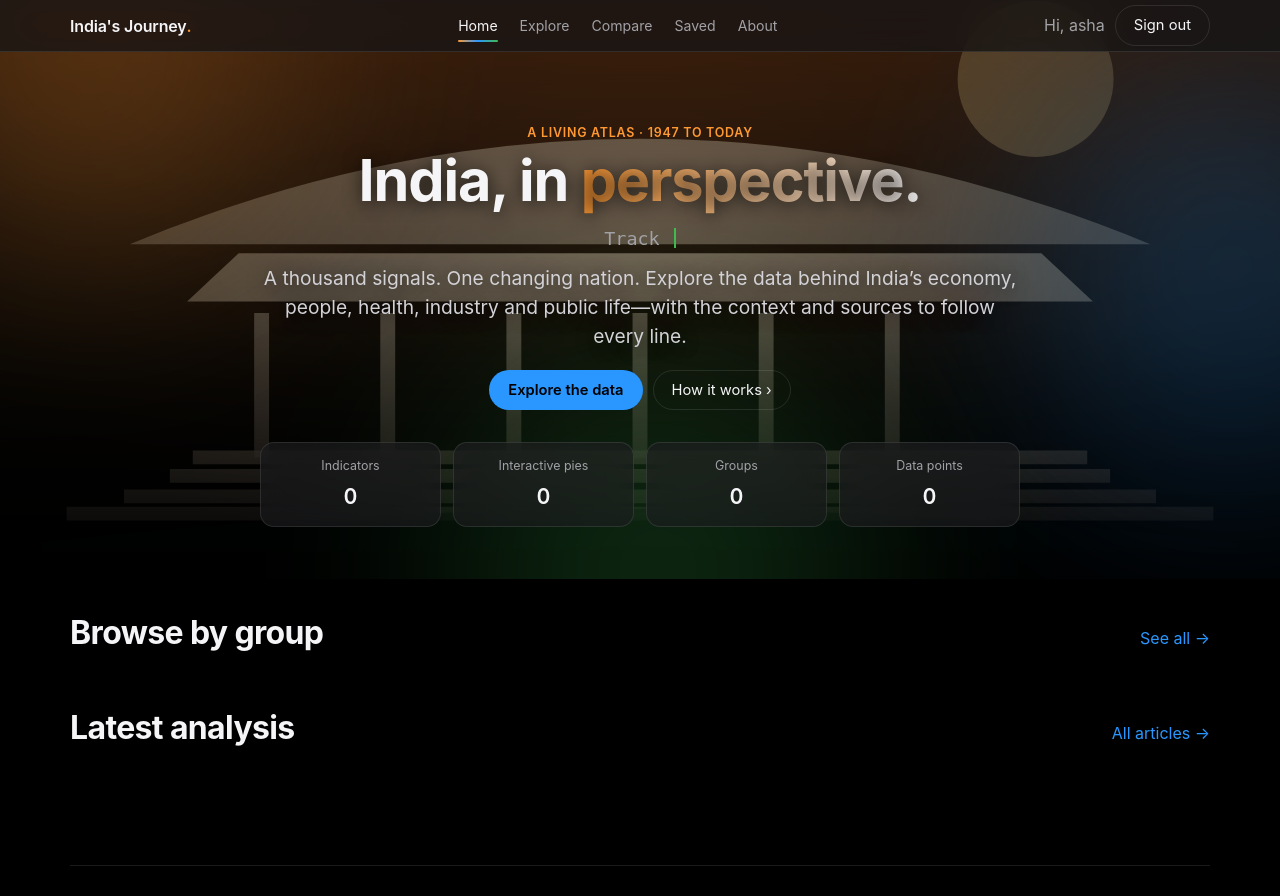
Test case: Accounts › signs out from the header
Click the button "Sign out" at (1162,26), box [1115,6,1210,46]
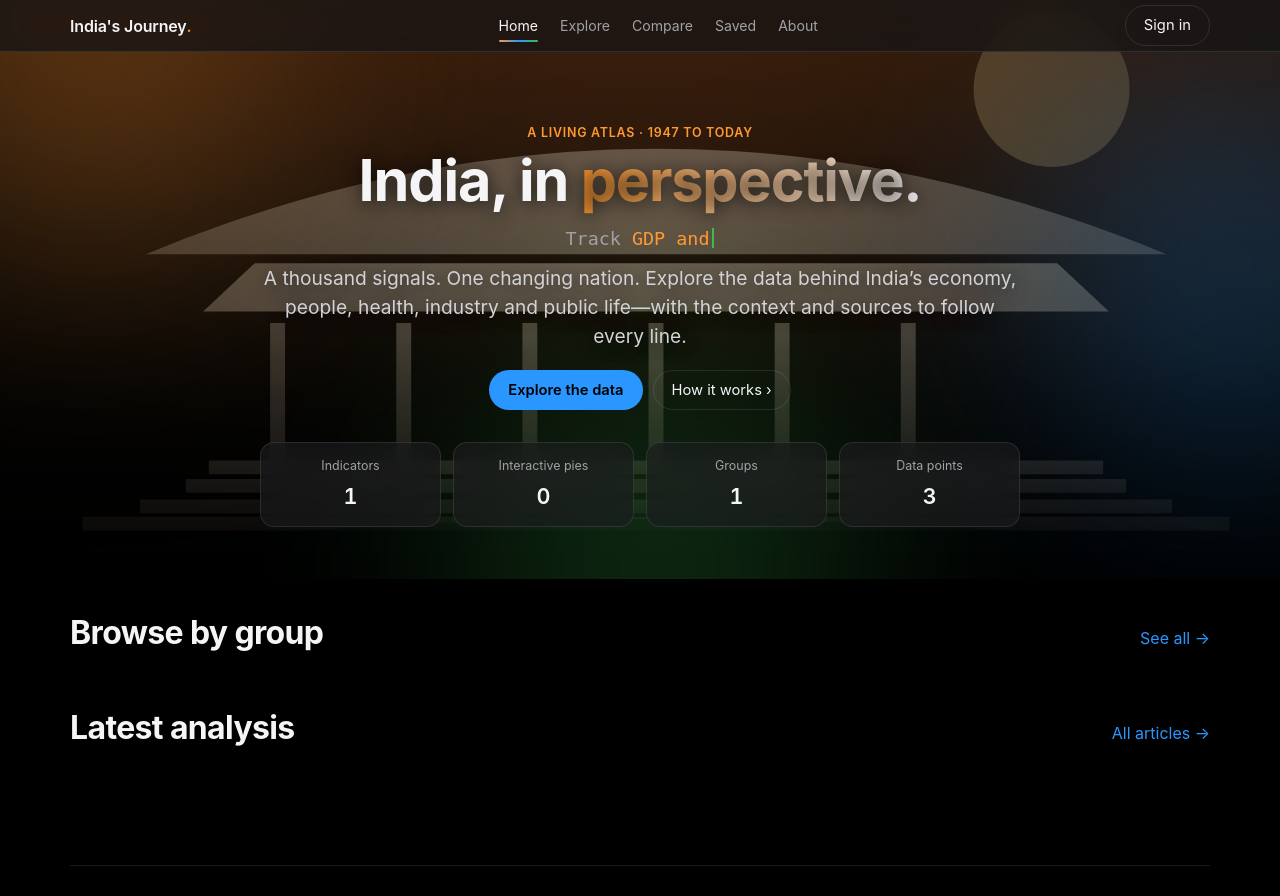
Expected: the link "Sign in" is shown, [1125,6,1210,46]
